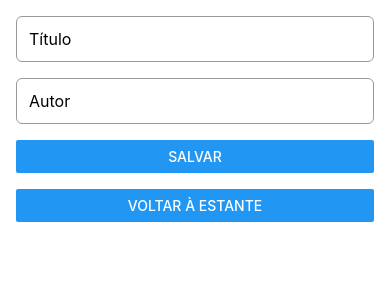
CadastroScreen › exibe erros de validacao e nao navega ao salvar com campos vazios
Click the button "Salvar": [195, 156] box [16,140,374,173]
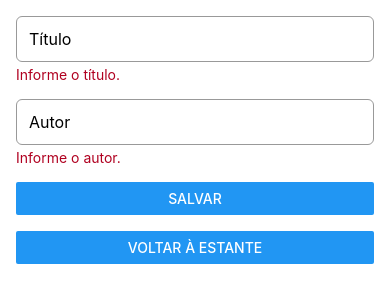
Check: the text "Informe o título." is shown, box [16,66,120,83]
Check: the text "Informe o autor." is shown, box [16,149,121,166]
